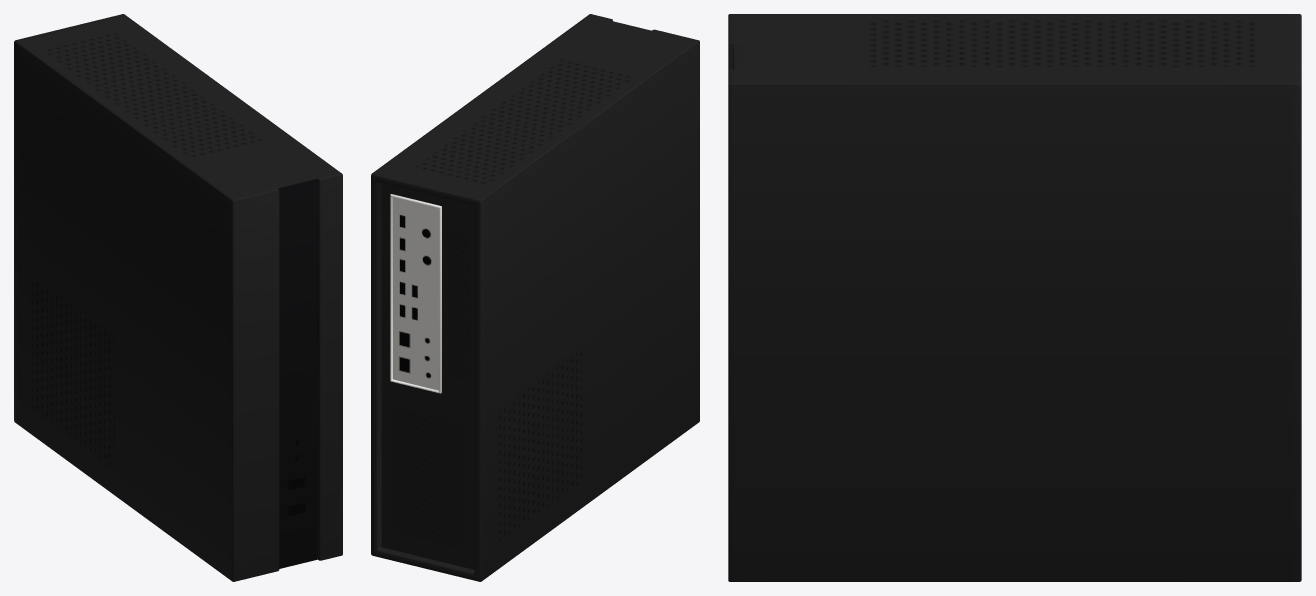
The picture shows the model from 3 angles, left to right: view 1: azimuth 30°, elevation 25°; view 2: azimuth 150°, elevation 25°; view 3: azimuth 270°, elevation 25°; orthographic projection. The views are drawn at different scales.
Visible parts, largest first — view 1: PC_A; view 2: PC_A; view 3: PC_A.
Part boxes in pixels (x1,y1,x2,y2): PC_A: [14, 14, 342, 581]; PC_A: [371, 14, 699, 581]; PC_A: [728, 14, 1301, 581].
Size of the model in its own units: 0.2033 by 0.6722 by 0.7002.
